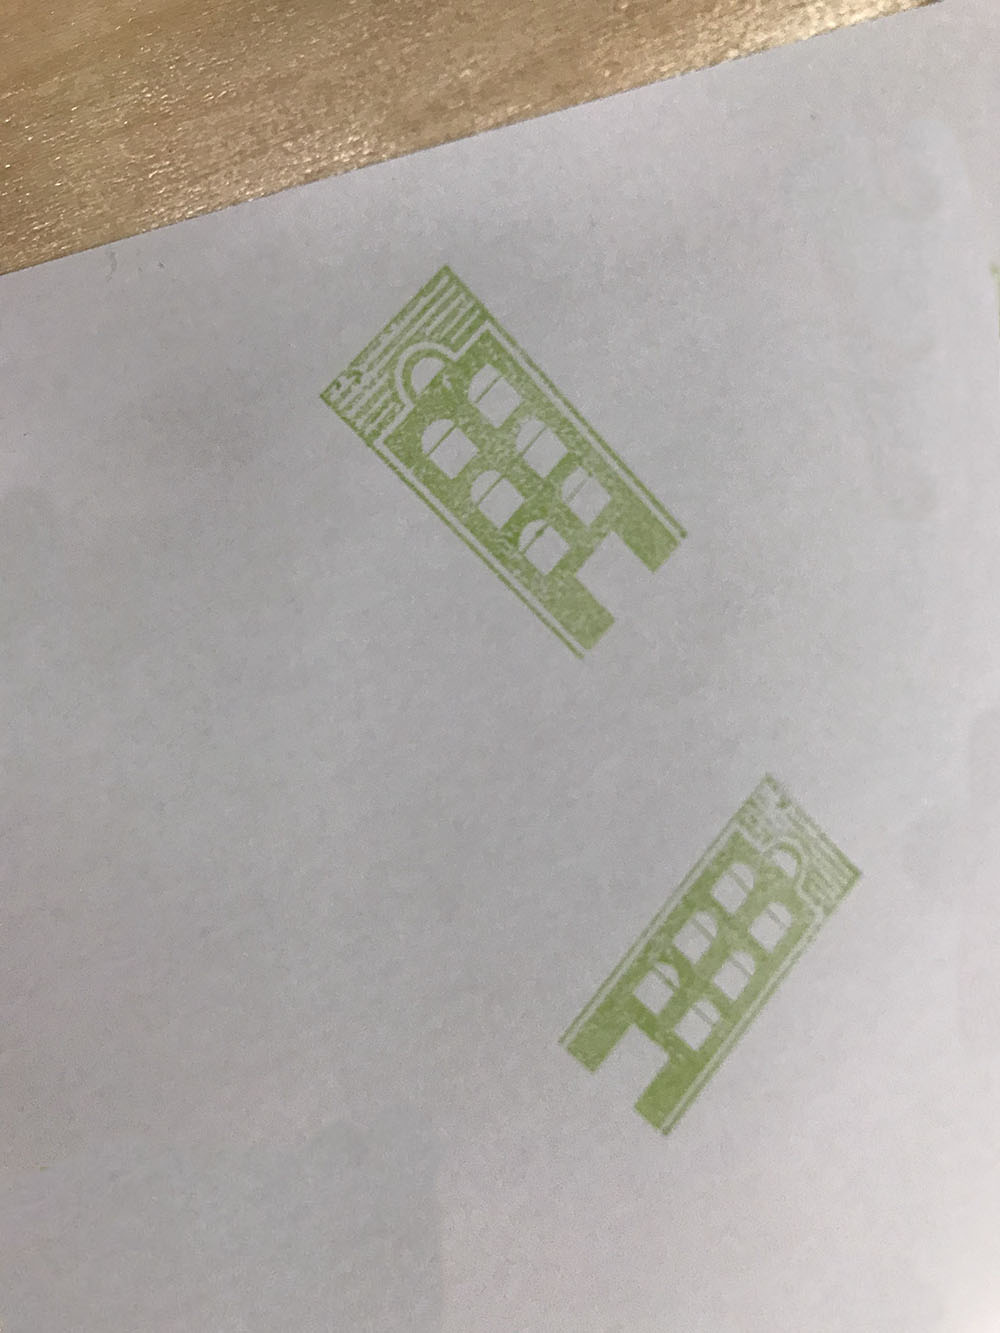build: (303, 232, 718, 693), (520, 740, 886, 1155)
